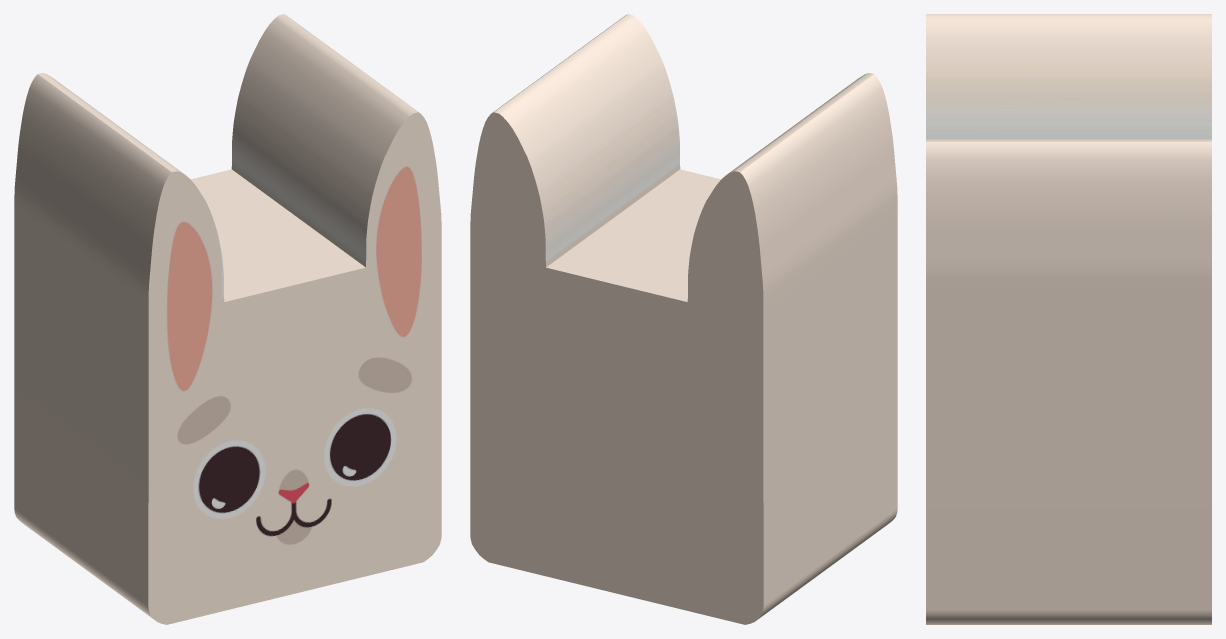
The model's file is Rabbit.obj.
The picture shows the model from 3 angles, left to right: view 1: azimuth 30°, elevation 25°; view 2: azimuth 150°, elevation 25°; view 3: azimuth 270°, elevation 25°; orthographic projection. The views are drawn at different scales.
Visible parts, largest first — view 1: rabbit; view 2: rabbit; view 3: rabbit.
Part boxes in pixels (x1,y1,x2,y2): rabbit: (14,14,441,624); rabbit: (470,14,897,624); rabbit: (926,14,1211,624).
Size of the model in its own units: 5.34 by 7.86 by 4.24.
